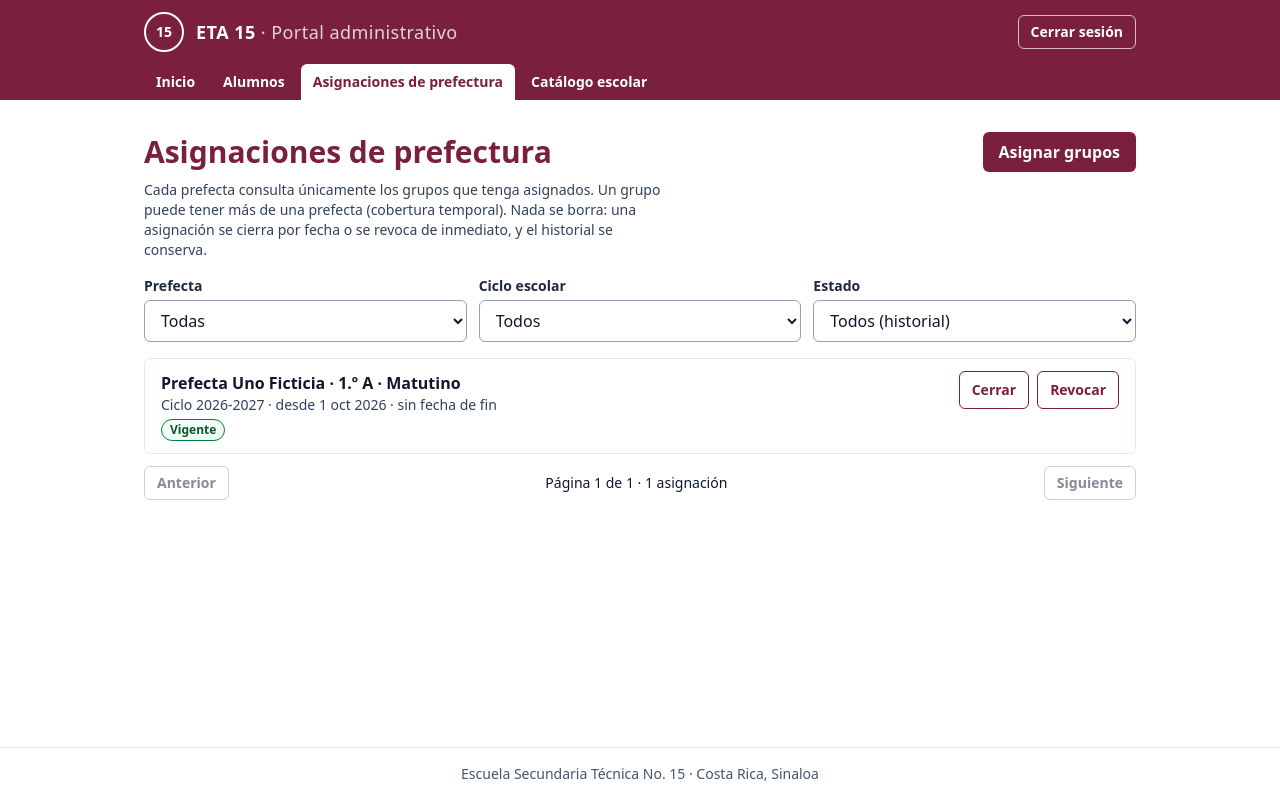
Scenario: asignar grupos › asigna varios grupos con una peticion por grupo, sin enviar ciclo ni actor, y refresca la lista
Click the button "Asignar grupos": (1059, 152) [982,132,1136,172]
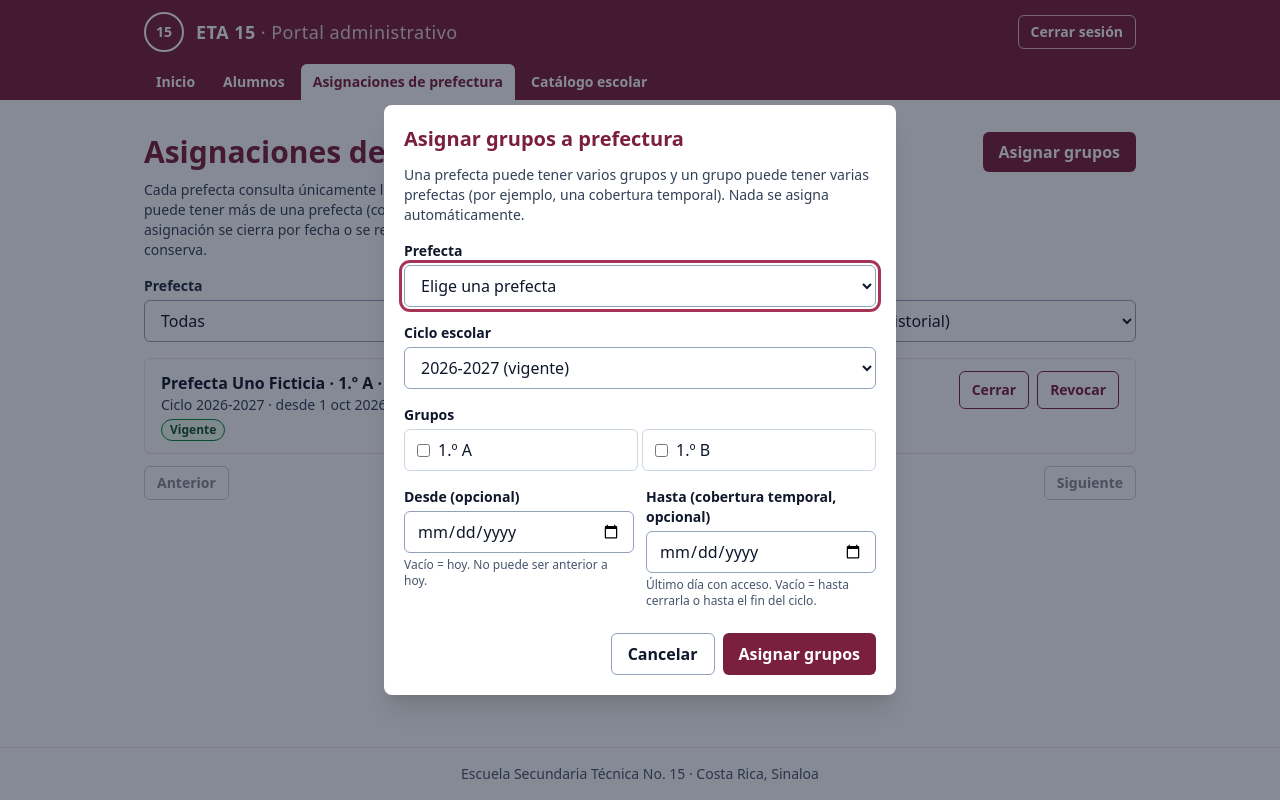
Select "Prefecta Dos Ficticia · dos@escuela.test" in the dropdown labelled "Prefecta": (640, 286) [404,265,876,307]
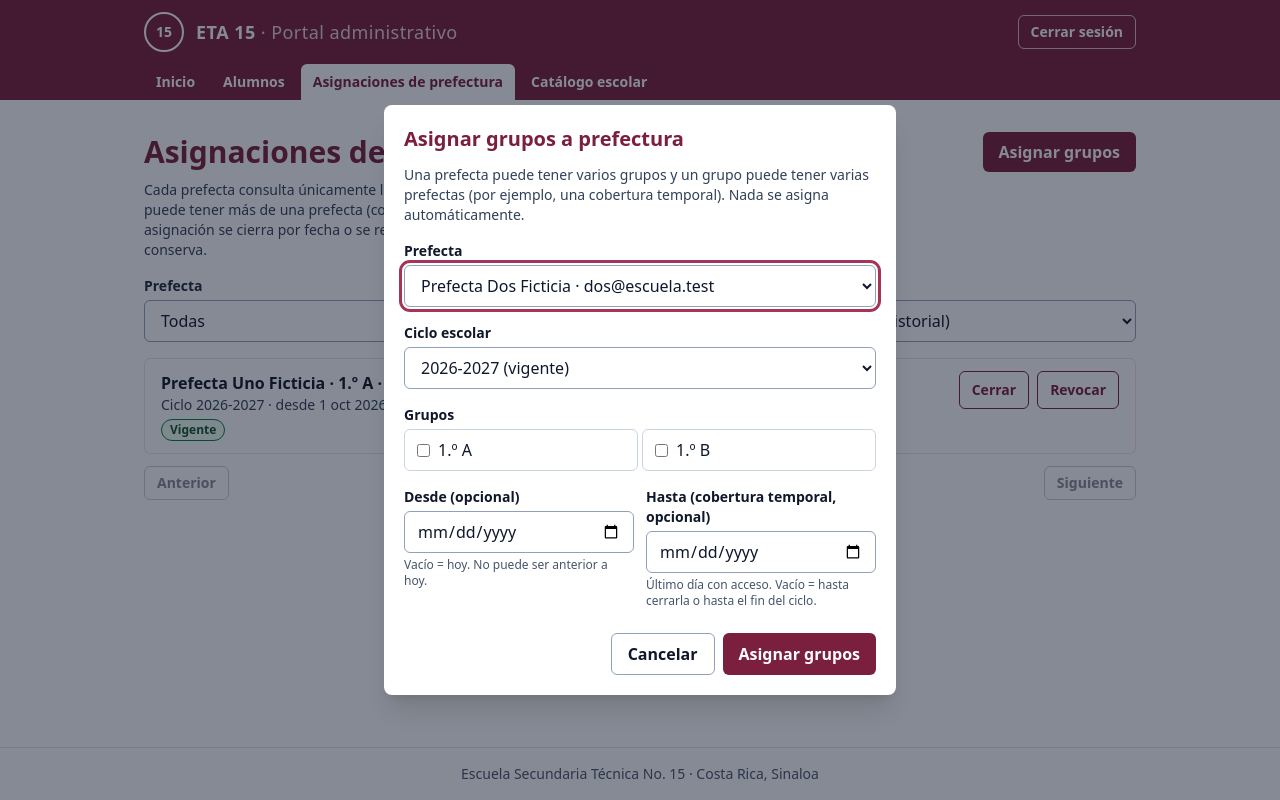
Click the checkbox labelled "1.º A": (424, 450) [417,444,430,456]
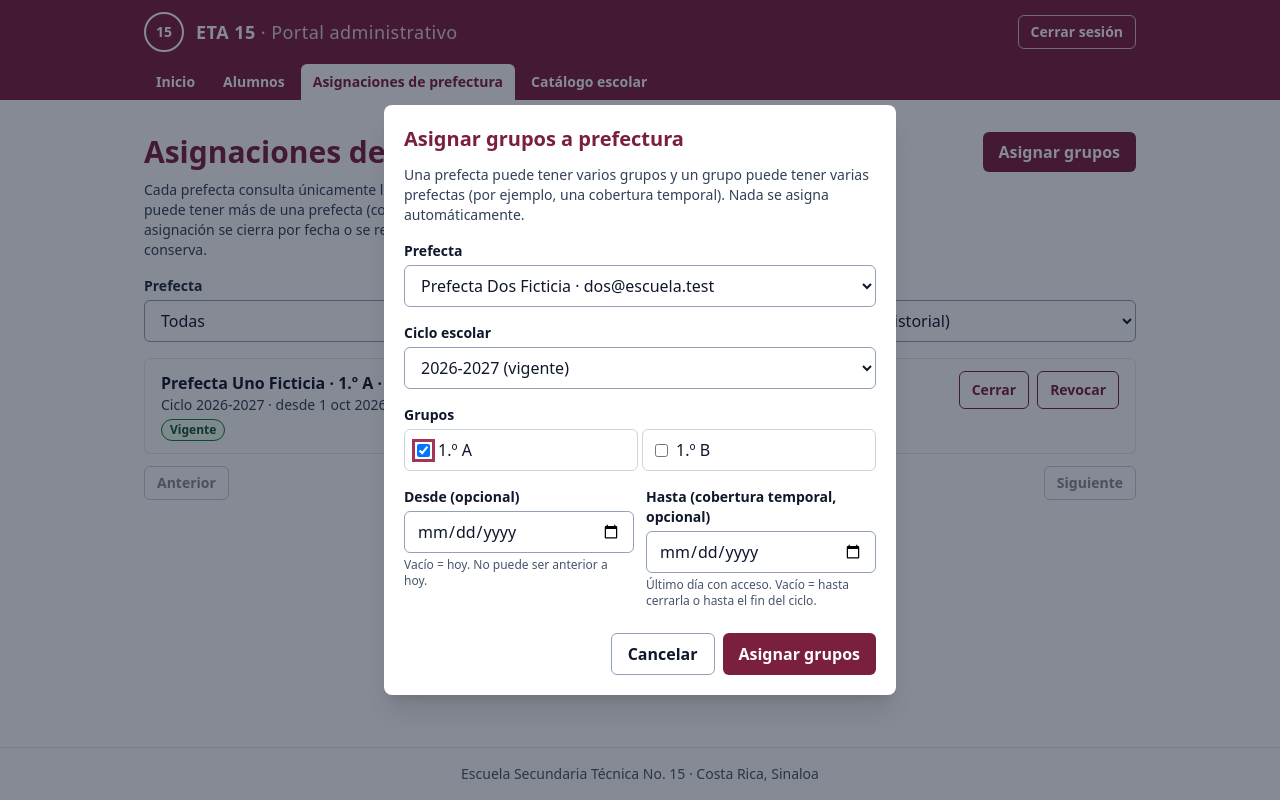
Click the checkbox labelled "1.º B": (662, 450) [655,444,668,456]
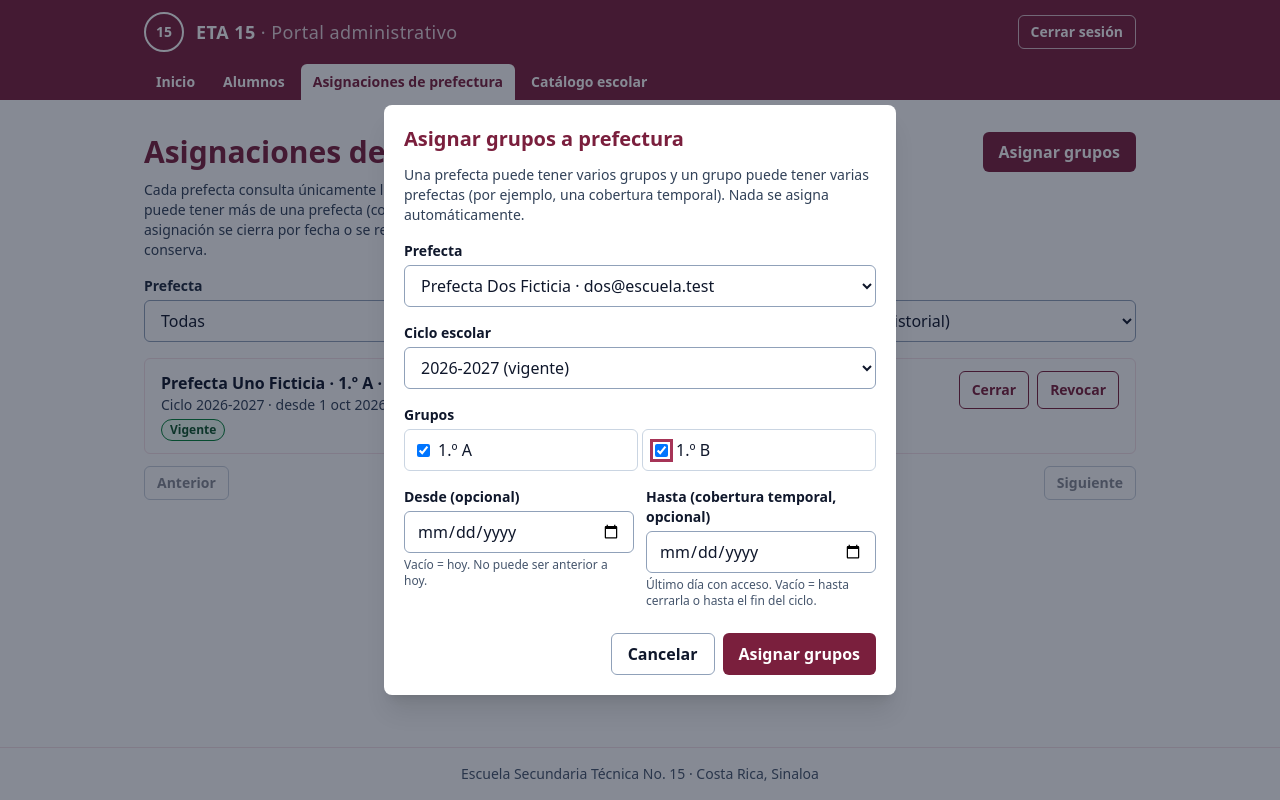
In the date field labelled "Hasta (cobertura temporal, opcional)": (761, 552) [646,531,876,573], type "2026-12-15"
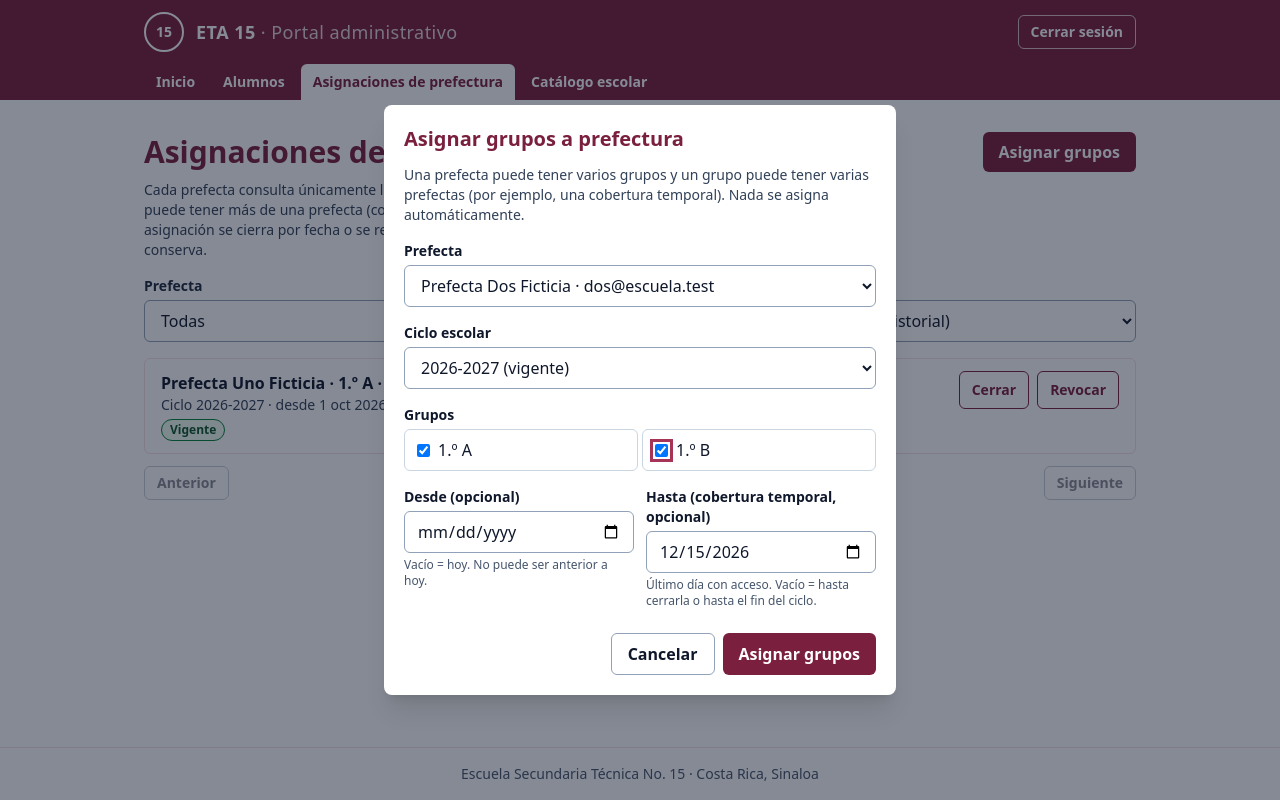
Click the button "Asignar grupos": (799, 654) [722,633,876,675]
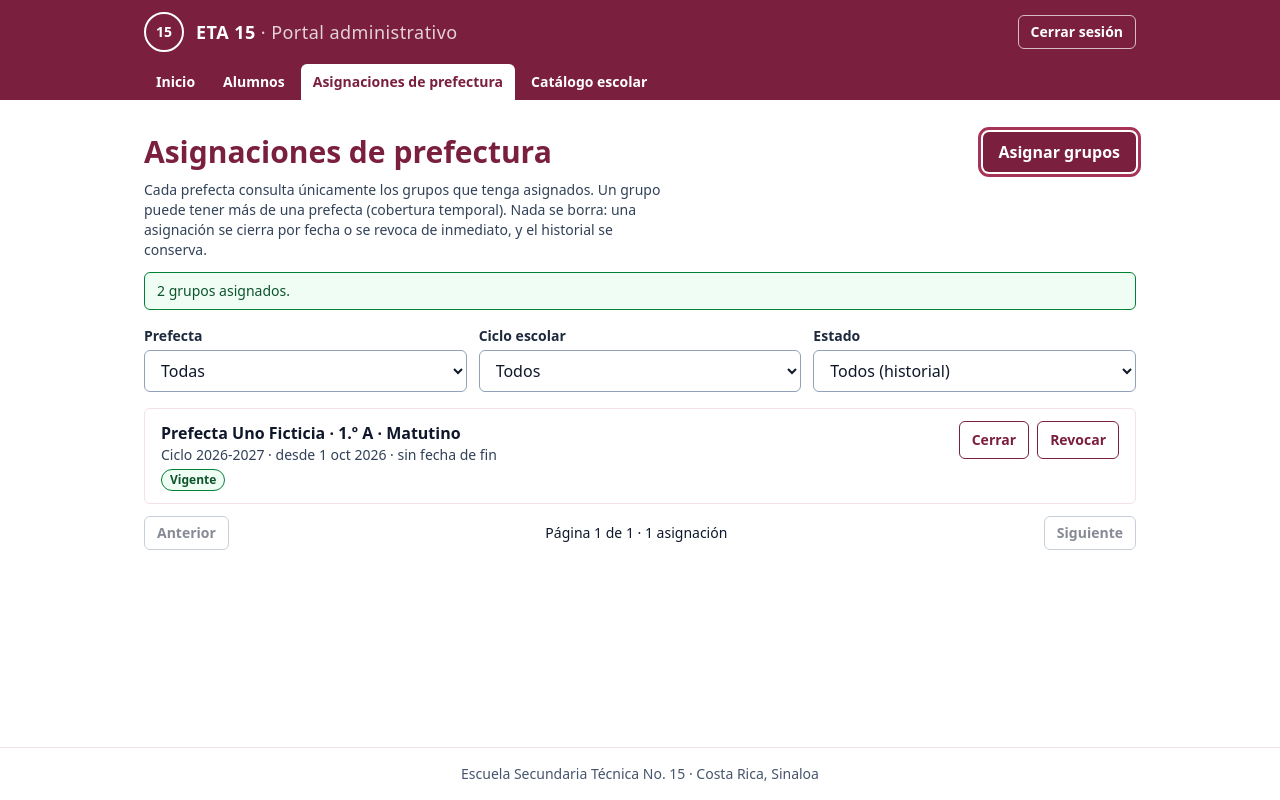
Result: the message shows "2 grupos asignados" at [157,281,290,300]
